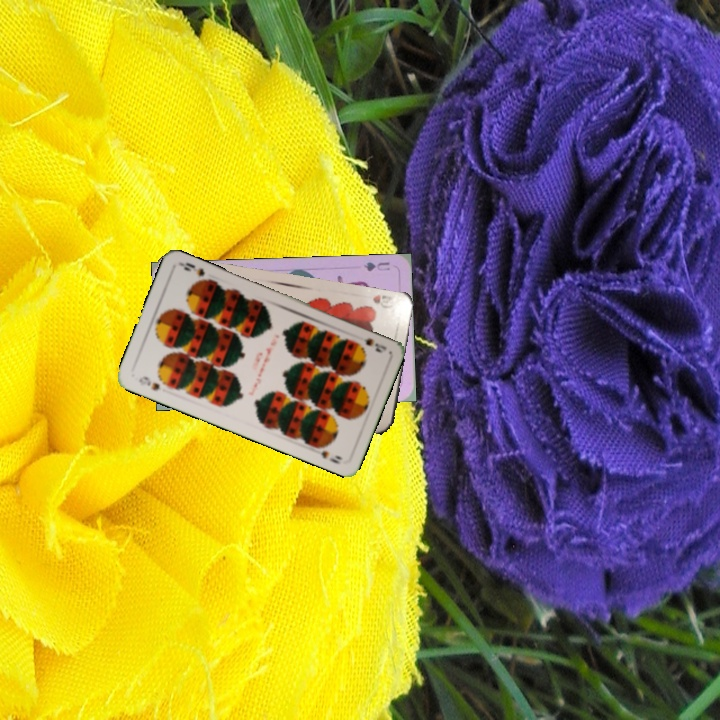GU: (360, 258, 392, 274)
H10: (369, 290, 398, 311)
S9: (360, 334, 389, 355), (135, 372, 163, 393)
